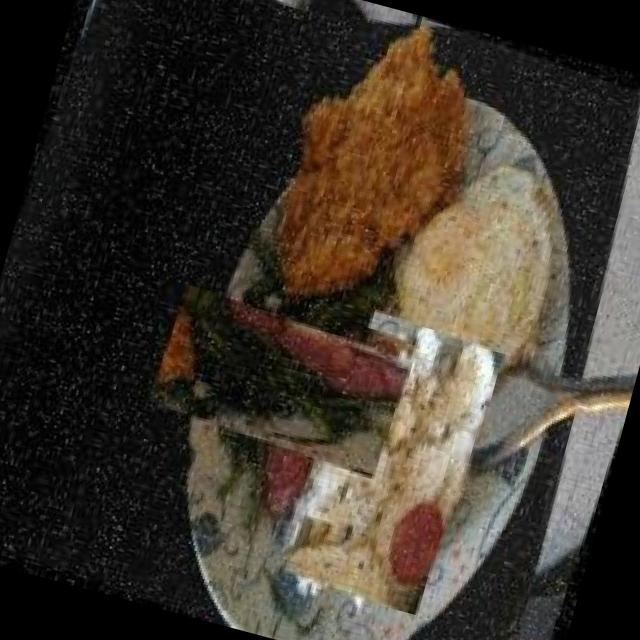chinese_sausage: (253, 306, 407, 531)
fried_chicken: (239, 0, 504, 335)
fried_eggs: (366, 126, 583, 402)
rice: (282, 304, 508, 620)
water_spinach: (164, 263, 400, 499)
